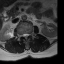CCS_normal: (24, 32, 27, 42)
LFS_normal: (29, 31, 31, 37)
LLS_normal: (27, 31, 29, 38)
RFS_stenosis: (20, 32, 22, 39)
RLS_normal: (22, 32, 24, 39)
